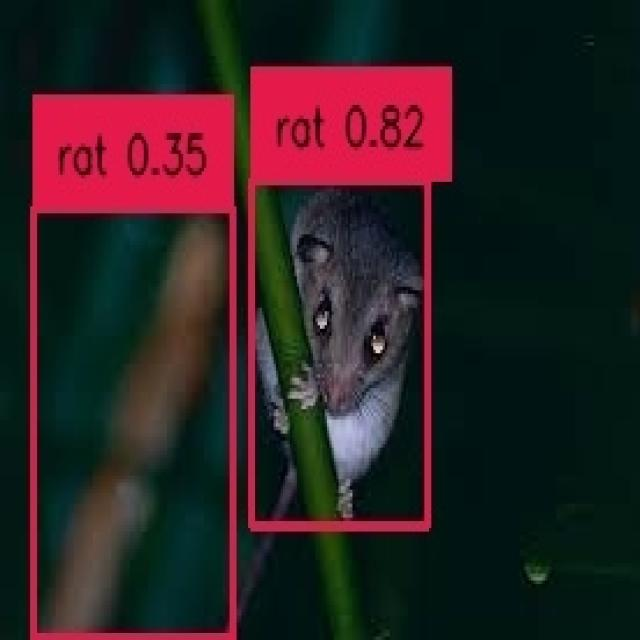rat: (30, 203, 230, 633), (248, 175, 424, 521)
